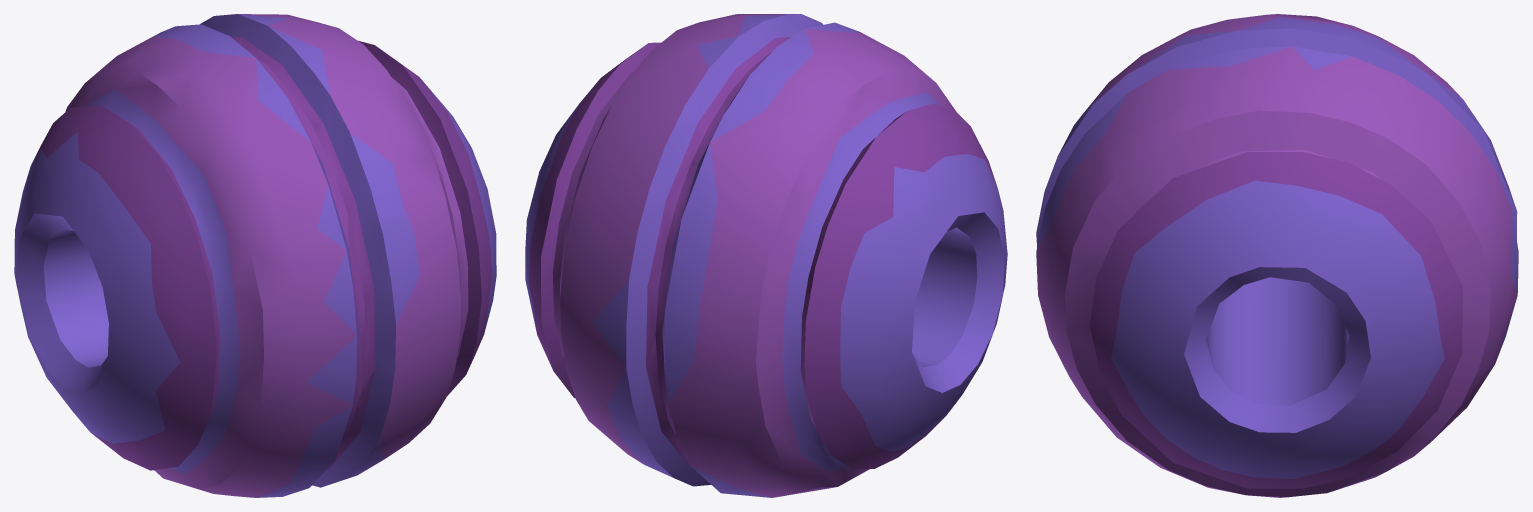
Rendered from planet-purple.glb.
3 renders of one model, left to right at view 1: azimuth 30°, elevation 25°; view 2: azimuth 150°, elevation 25°; view 3: azimuth 270°, elevation 25°, orthographic.
Parts seen in each view (by area): view 1: Planet_8; view 2: Planet_8; view 3: Planet_8.
Boxes of the visible parts, left/top/right/bottom form: Planet_8: left=14, top=14, right=496, bottom=497; Planet_8: left=525, top=14, right=1007, bottom=497; Planet_8: left=1036, top=14, right=1518, bottom=497.
Size of the model in its own units: 3.45 by 3.75 by 3.75.
1 material, 1 textured.
